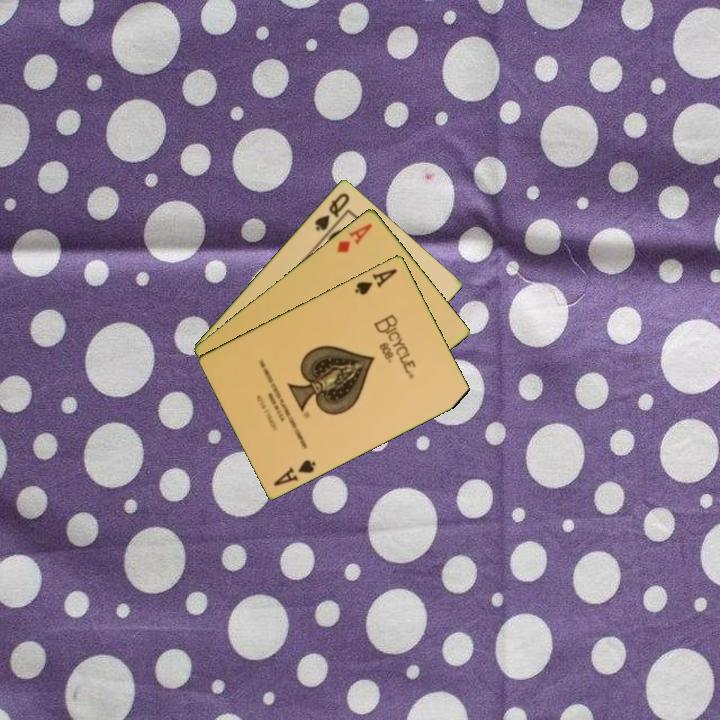Ad: (333, 219, 376, 255)
As: (270, 455, 319, 489), (351, 265, 400, 298)
Qs: (311, 189, 353, 234)
